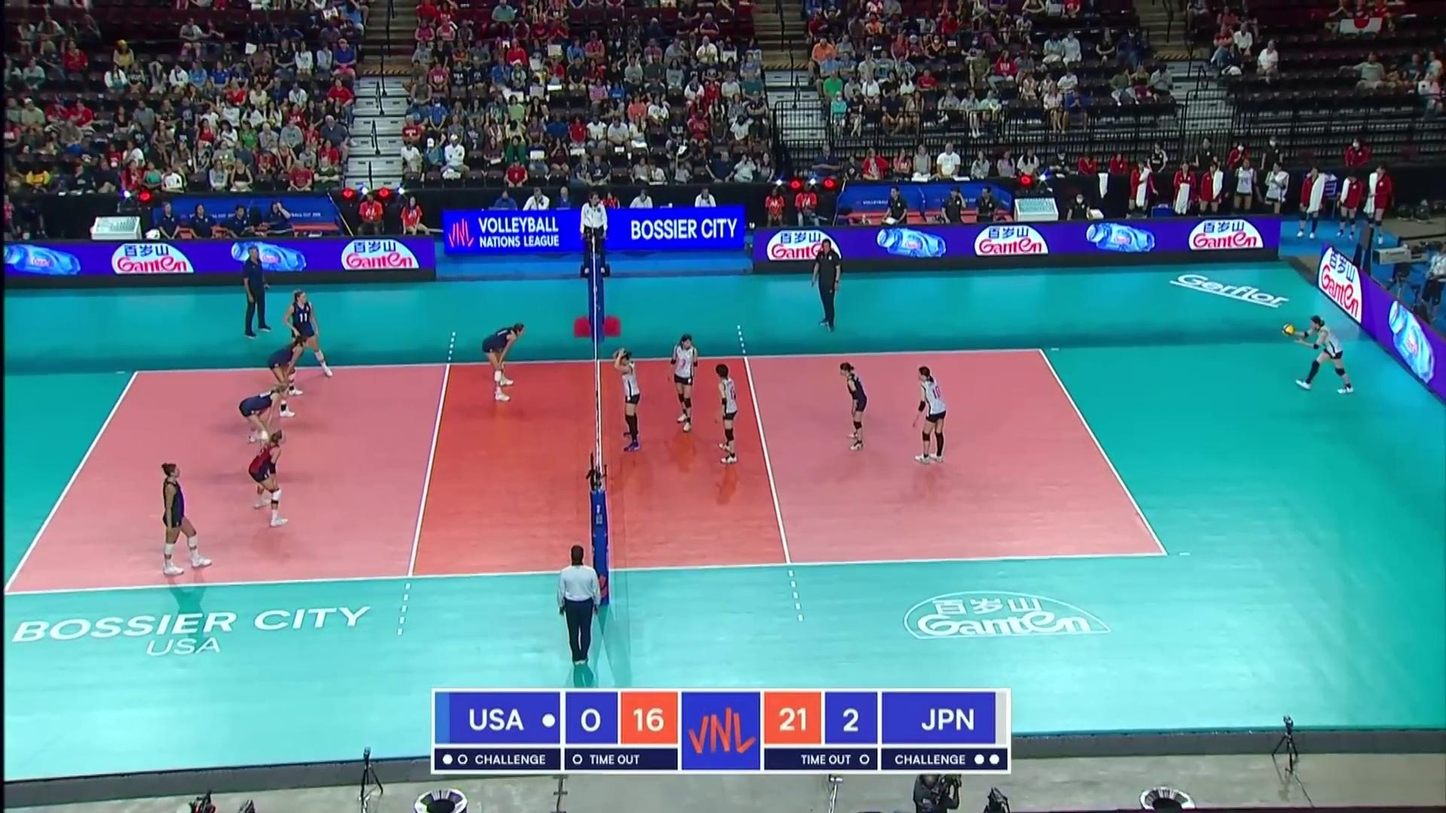player: (155, 462, 213, 574), (1282, 317, 1356, 394), (276, 292, 337, 377), (246, 430, 292, 531), (708, 364, 749, 466), (913, 367, 955, 465), (670, 334, 706, 439), (238, 376, 292, 446), (480, 324, 527, 404), (615, 348, 650, 453), (265, 329, 311, 401), (841, 365, 873, 453)
refree: (551, 546, 610, 670), (579, 192, 611, 280)
